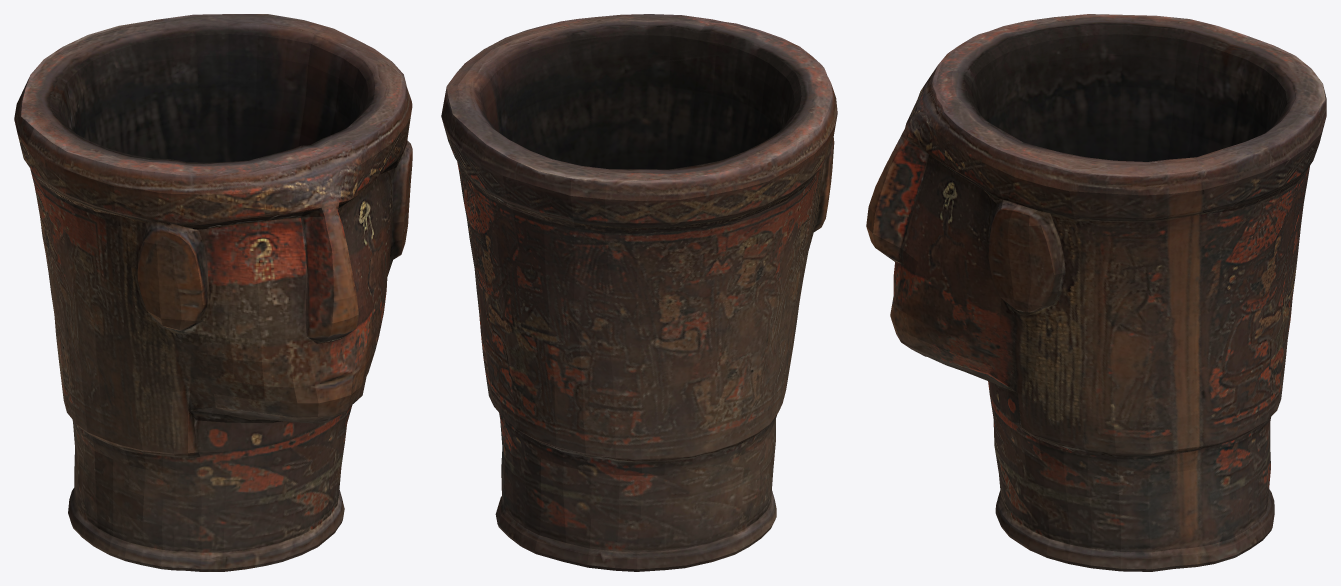
Rendered from bien01.FBX.
The picture shows the model from 3 angles, left to right: view 1: azimuth 30°, elevation 25°; view 2: azimuth 150°, elevation 25°; view 3: azimuth 270°, elevation 25°; orthographic projection.
Visible parts, largest first — view 1: Box001; view 2: Box001; view 3: Box001.
Part boxes in pixels (bbox=[...]): Box001: bbox=[14, 14, 412, 571]; Box001: bbox=[441, 14, 837, 571]; Box001: bbox=[866, 14, 1326, 571].
Bounding box in the file's own units: 148 × 175 × 170.
